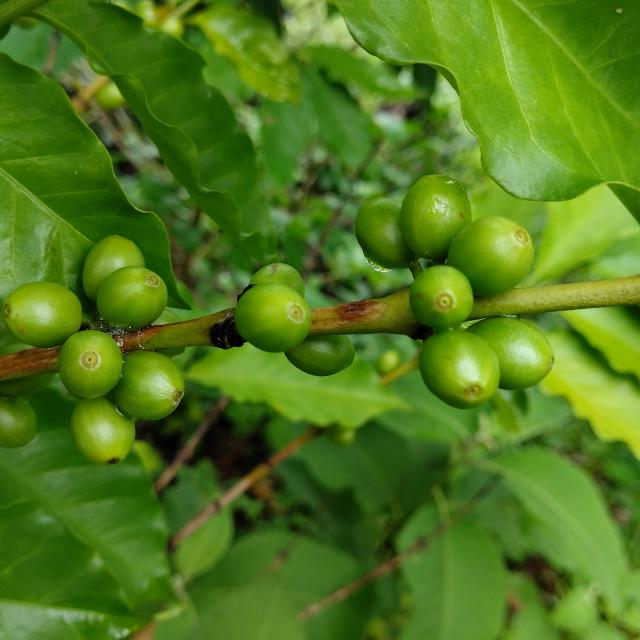green: (448, 216, 535, 296), (419, 328, 501, 409), (469, 316, 555, 391), (400, 174, 472, 262), (234, 283, 312, 353), (1, 282, 81, 348), (110, 350, 183, 421), (96, 266, 167, 331), (70, 396, 135, 465), (355, 198, 416, 271), (58, 330, 122, 399), (410, 265, 474, 330), (82, 235, 144, 302), (284, 335, 355, 377), (249, 263, 305, 298), (0, 398, 36, 448)
